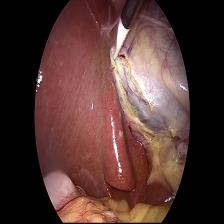Hook: (111, 18, 131, 64)
